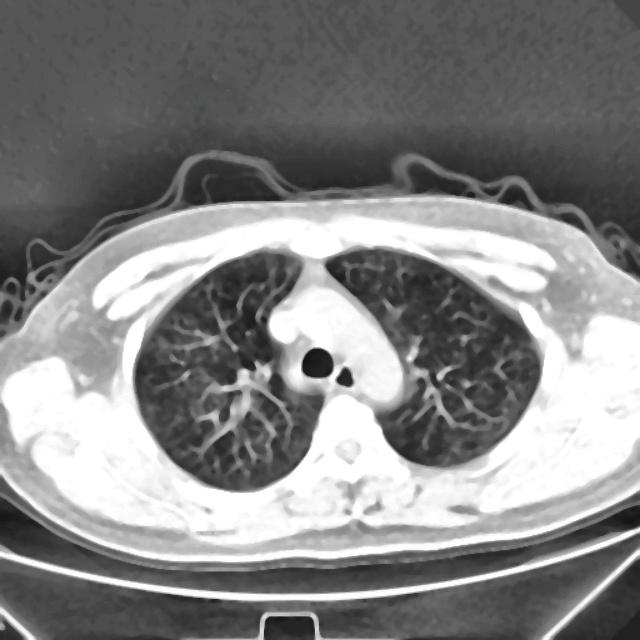covid: (0, 150, 639, 573)
